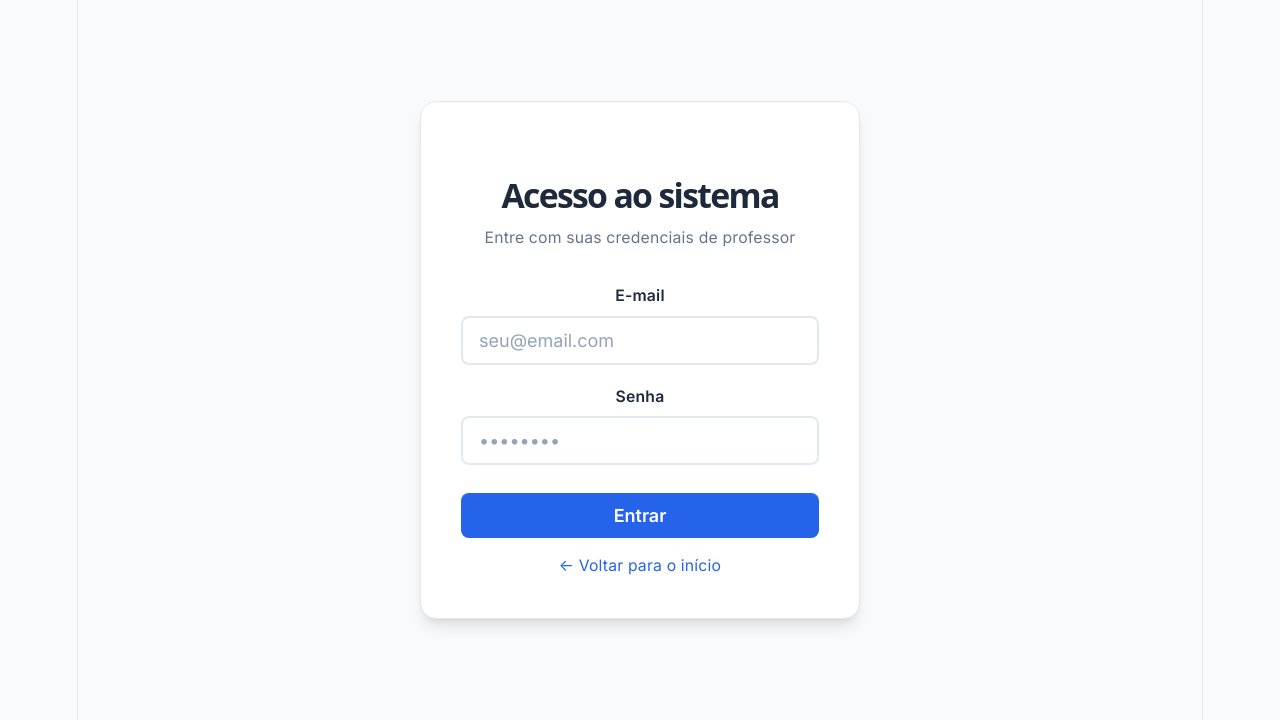
Test case: LoginPage › should show error message on failed login
The image size is (1280, 720).
In the field labelled "E-mail": (640, 340) [461, 316, 819, 365], type "prof@escola.edu"
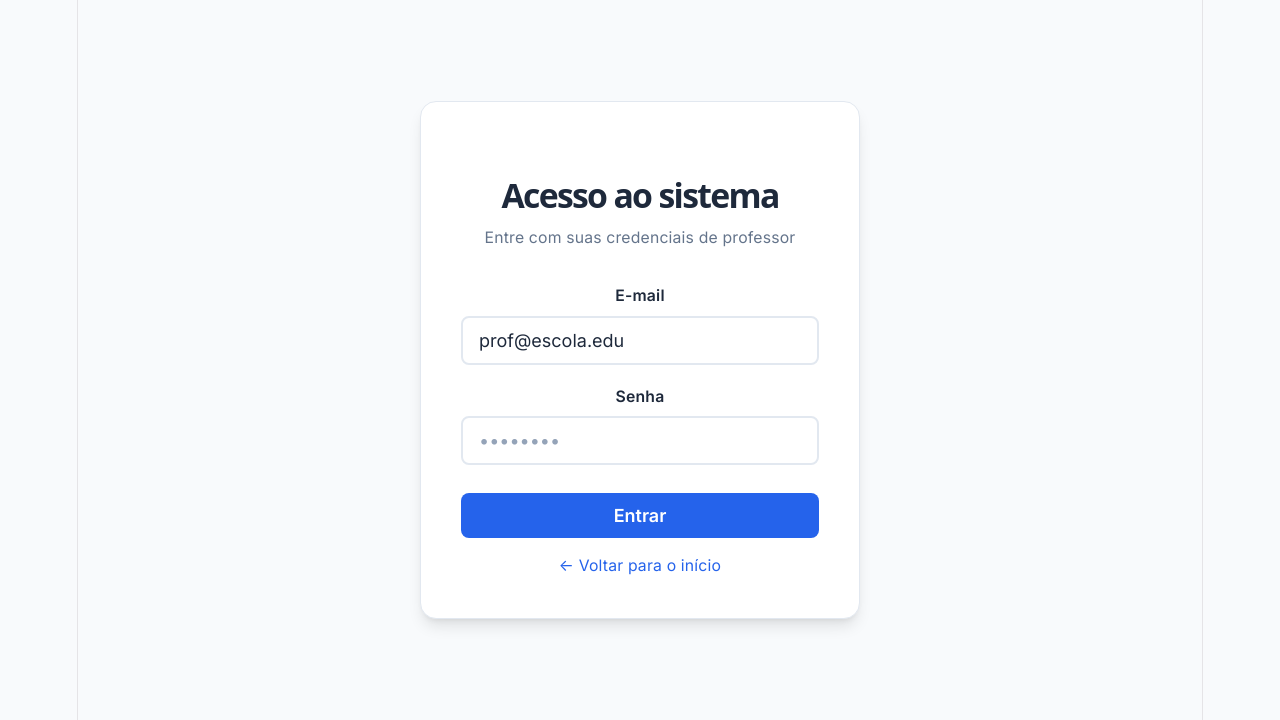
In the password field labelled "Senha": (640, 441) [461, 416, 819, 465], type "senhaerrada"
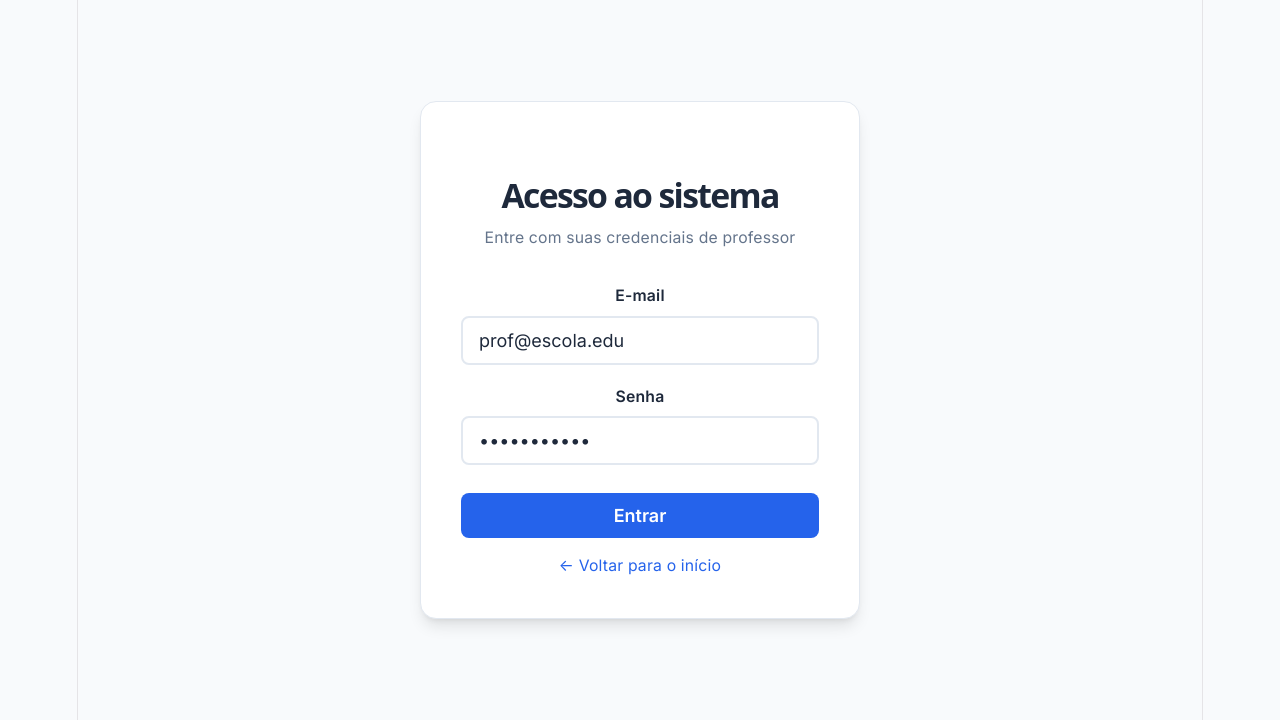
Click the button "Entrar": (640, 516) [461, 493, 819, 538]
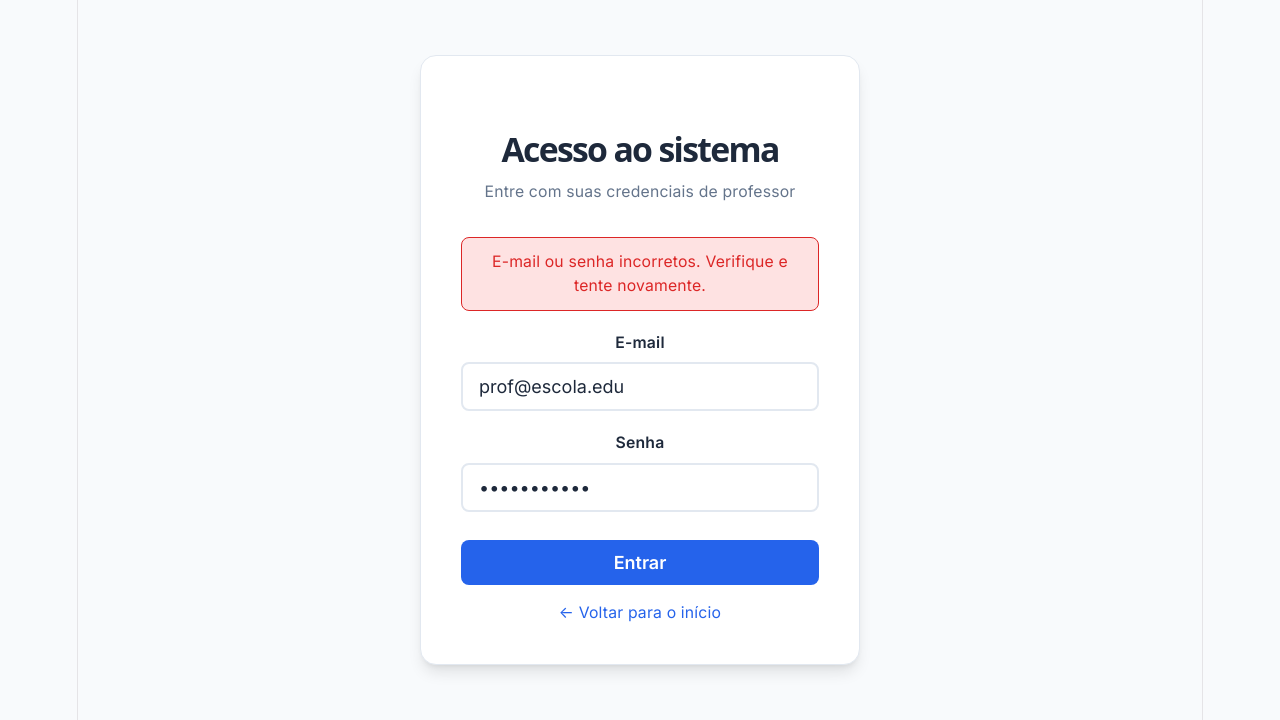
Expected: the text "E-mail ou senha incorretos. Verifique e tente novamente." is shown, [461, 237, 819, 311]
